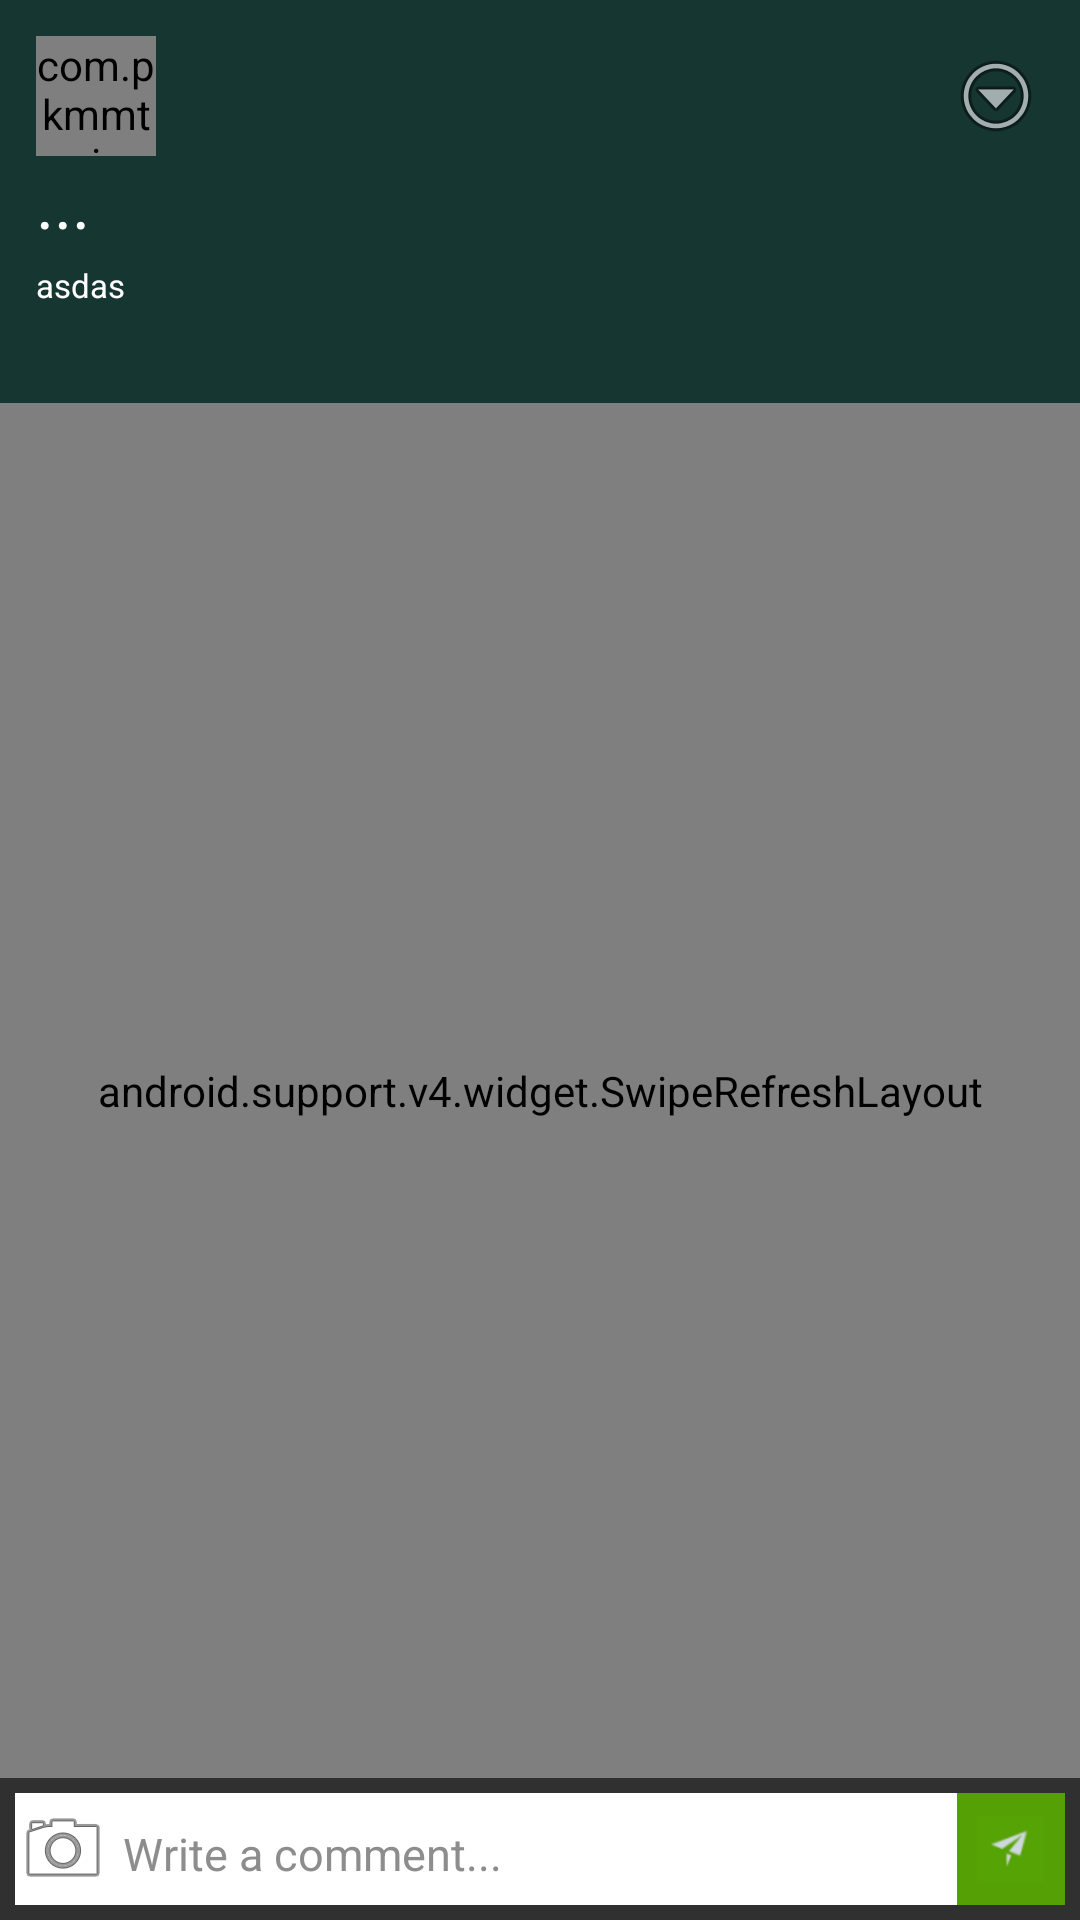

Icon bounding boxes for this 1080*1920 phone screenshot, format (left=x1, top=y1, right=x2, bottom=y2):
add media send: (left=957, top=1793, right=1065, bottom=1905)
camera: (left=26, top=1818, right=100, bottom=1877)
